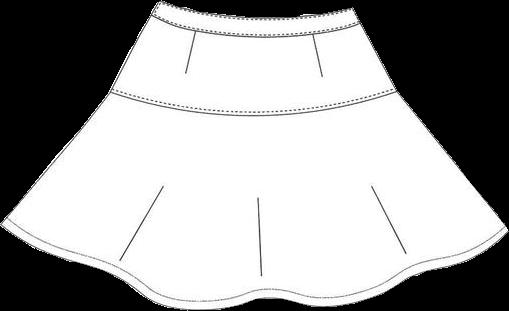Hemline: (0, 222, 508, 310)
Waistline: (109, 87, 397, 118), (150, 12, 359, 38), (158, 0, 353, 20)
